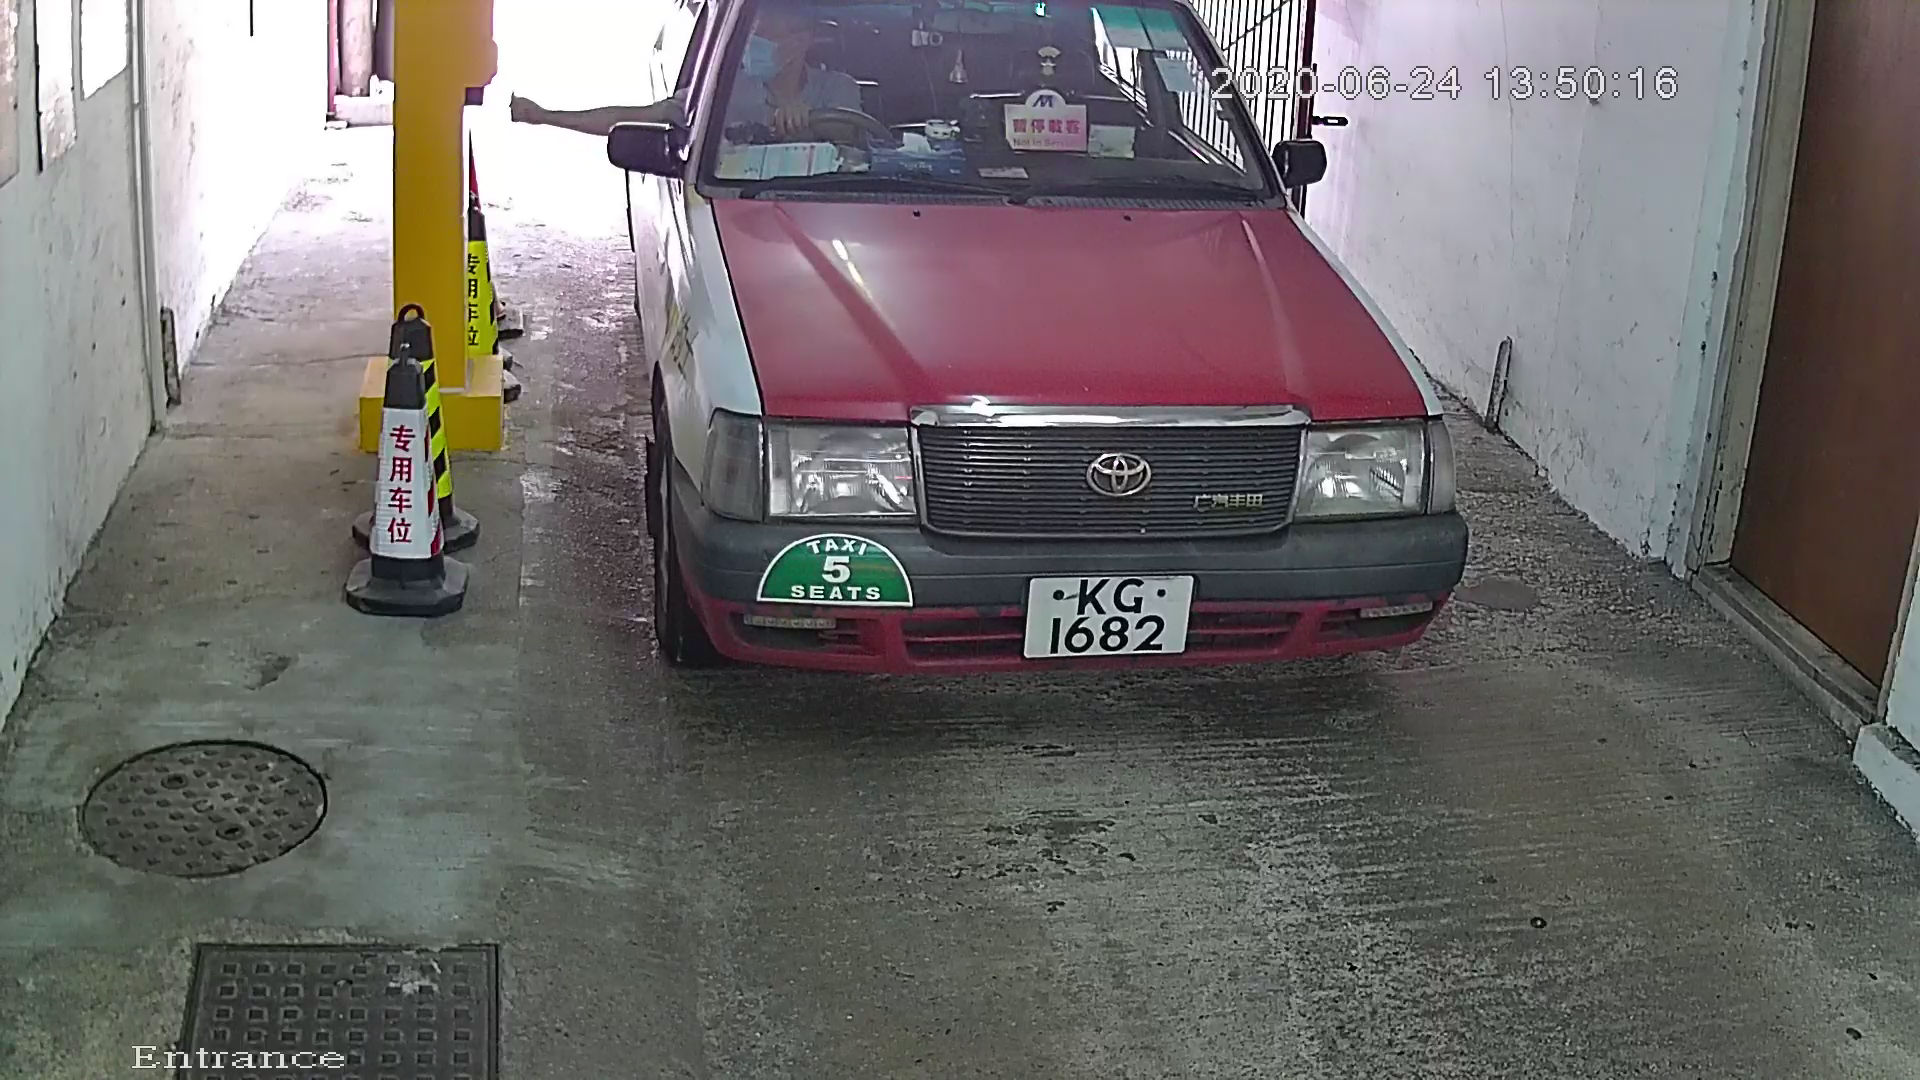Car: (529, 1, 1488, 774)
License Plate: (1016, 557, 1208, 674)
